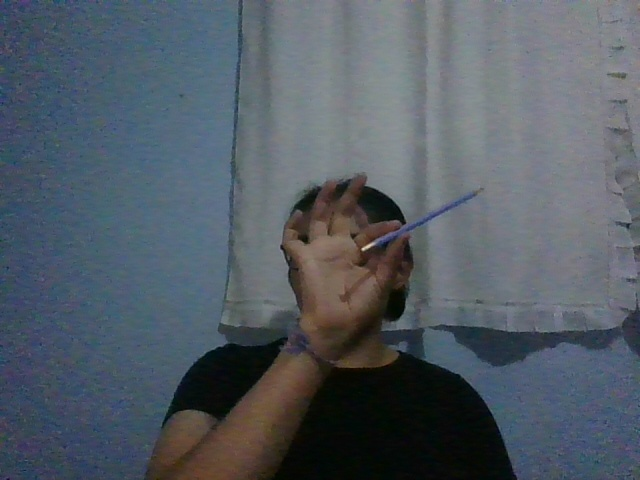lapiz: (360, 187, 485, 254)
